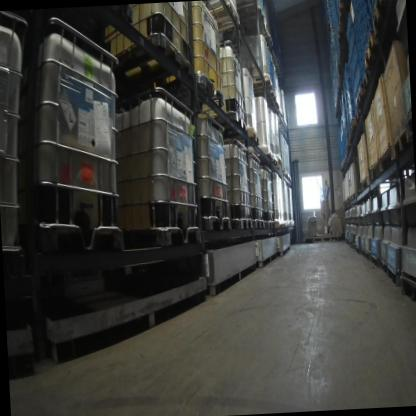pallet: (206, 0, 239, 33), (370, 0, 399, 37), (362, 32, 389, 69), (207, 110, 247, 134), (245, 75, 273, 98), (237, 1, 264, 24), (391, 125, 409, 156), (235, 125, 259, 145), (400, 276, 416, 303), (387, 265, 400, 290), (361, 68, 372, 92), (263, 91, 279, 107), (258, 30, 273, 47), (231, 217, 252, 229), (355, 86, 366, 108), (405, 110, 413, 139), (337, 2, 345, 25), (251, 218, 265, 230), (370, 254, 381, 268), (354, 106, 363, 123), (312, 235, 331, 243), (336, 25, 344, 44), (381, 260, 390, 276), (261, 147, 272, 159), (349, 119, 357, 134), (262, 220, 274, 229), (274, 219, 284, 229), (364, 248, 371, 262), (282, 218, 290, 227), (280, 120, 287, 129), (355, 244, 360, 256), (345, 139, 351, 149), (276, 157, 282, 166), (348, 132, 353, 142), (352, 192, 358, 200), (360, 248, 365, 257), (282, 170, 287, 179), (272, 158, 278, 165), (278, 107, 282, 117), (349, 193, 353, 201), (286, 174, 290, 181), (342, 158, 346, 165), (340, 161, 343, 169), (344, 155, 347, 161), (345, 149, 348, 155)
small_load_carrier: (350, 42, 359, 68), (348, 22, 356, 47), (353, 60, 360, 85), (367, 0, 375, 16), (352, 70, 357, 93), (346, 85, 354, 97), (345, 76, 352, 89), (348, 94, 354, 108), (350, 105, 355, 119), (348, 111, 352, 125)
